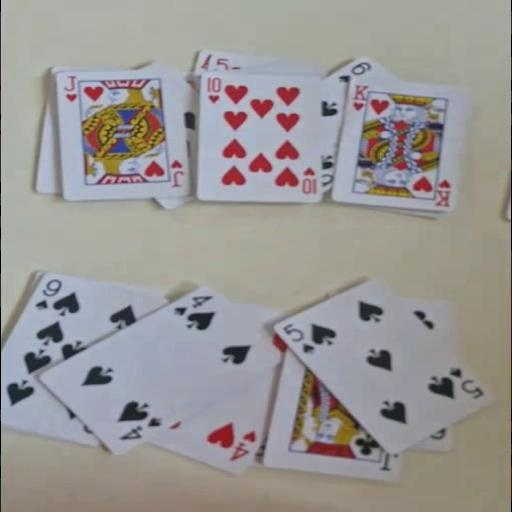10: (299, 165, 319, 195), (204, 75, 222, 105)
4: (115, 415, 162, 442), (225, 427, 259, 463), (170, 292, 214, 316)
5: (446, 365, 487, 400), (279, 321, 318, 355)
9: (30, 276, 64, 311)
J: (167, 157, 185, 188), (61, 74, 79, 104)
K: (431, 176, 453, 208), (349, 82, 370, 112)
